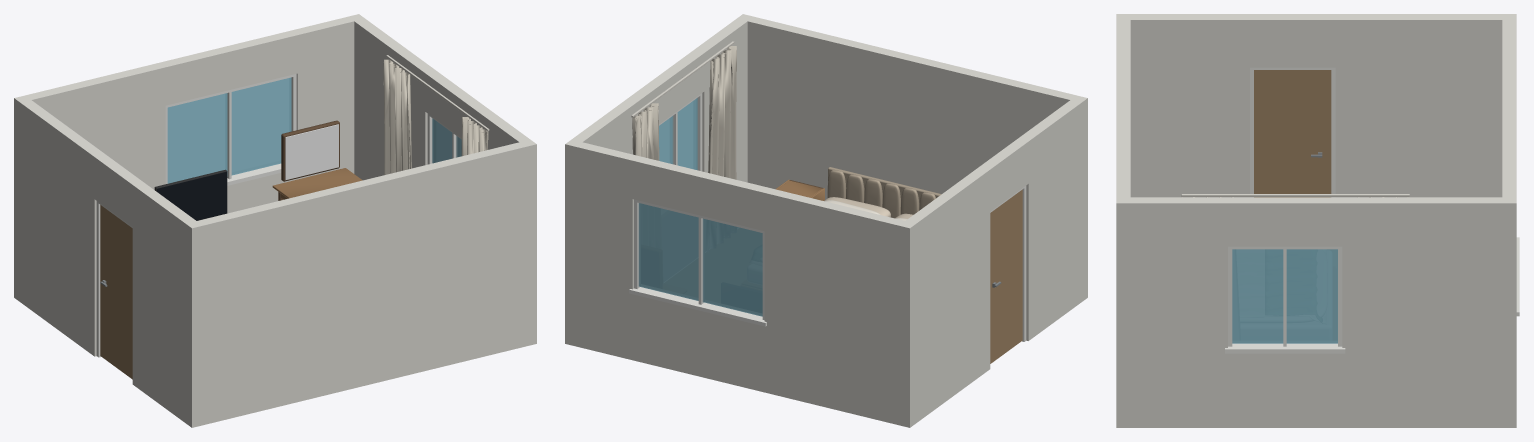
The model's file is oursv11b.glb.
3 views of the same model, side by side, from view 1: azimuth 30°, elevation 25°; view 2: azimuth 150°, elevation 25°; view 3: azimuth 270°, elevation 25° (orthographic). The views are drawn at different scales.
Visible parts, largest first — view 1: wall|scenesmith_000__R00|0, wall|scenesmith_000__R00|2, wall|scenesmith_000__R00|1, wall|scenesmith_000__R00|3, wall|scenesmith_000__R00|1 Window 0 | glazing, wall|scenesmith_000__R00|2 Door 0 | wood leaf, Option V2 softly draped left linen panel, Mirror, Display image, wall|scenesmith_000__R00|1 Window 0 | jamb, Bay divider, wall|scenesmith_000__R00|3 Window 0 | glazing (+3 smaller); view 2: wall|scenesmith_000__R00|1, wall|scenesmith_000__R00|0, wall|scenesmith_000__R00|2, wall|scenesmith_000__R00|3, wall|scenesmith_000__R00|1 Window 0 | glazing, wall|scenesmith_000__R00|2 Door 0 | wood leaf, Option V2 softly draped left linen panel, V2 padded headboard backing, wall|scenesmith_000__R00|1 Window 0 | jamb, wall|scenesmith_000__R00|3 Window 0 | glazing, wall|scenesmith_000__R00|3 Window 0 | jamb, wall|scenesmith_000__R00|2 Door 0 | jamb (+1 smaller); view 3: wall|scenesmith_000__R00|3, wall|scenesmith_000__R00|2, wall|scenesmith_000__R00|3 Window 0 | glazing, wall|scenesmith_000__R00|2 Door 0 | wood leaf, wall|scenesmith_000__R00|3 Window 0 | jamb, wall|scenesmith_000__R00|0, wall|scenesmith_000__R00|1, wall|scenesmith_000__R00|2 Door 0 | jamb, Option V2 continuous curtain track.
Boxes of the visible parts, left/top/right/bottom form: wall|scenesmith_000__R00|0: left=185, top=142, right=526, bottom=427; wall|scenesmith_000__R00|2: left=14, top=95, right=202, bottom=427; wall|scenesmith_000__R00|1: left=25, top=16, right=354, bottom=213; wall|scenesmith_000__R00|3: left=348, top=14, right=536, bottom=346; wall|scenesmith_000__R00|1 Window 0 | glazing: left=167, top=77, right=291, bottom=183; wall|scenesmith_000__R00|2 Door 0 | wood leaf: left=100, top=205, right=132, bottom=379; Option V2 softly draped left linen panel: left=383, top=59, right=488, bottom=174; Mirror: left=285, top=124, right=338, bottom=180; Display image: left=157, top=171, right=226, bottom=220; wall|scenesmith_000__R00|1 Window 0 | jamb: left=165, top=74, right=296, bottom=185; Bay divider: left=272, top=168, right=362, bottom=199; wall|scenesmith_000__R00|3 Window 0 | glazing: left=432, top=118, right=461, bottom=163; wall|scenesmith_000__R00|1: left=576, top=142, right=904, bottom=425; wall|scenesmith_000__R00|0: left=747, top=16, right=1087, bottom=301; wall|scenesmith_000__R00|2: left=899, top=95, right=1087, bottom=427; wall|scenesmith_000__R00|3: left=565, top=14, right=753, bottom=346; wall|scenesmith_000__R00|1 Window 0 | glazing: left=638, top=203, right=762, bottom=316; wall|scenesmith_000__R00|2 Door 0 | wood leaf: left=990, top=189, right=1022, bottom=363; Option V2 softly draped left linen panel: left=632, top=46, right=736, bottom=179; V2 padded headboard backing: left=827, top=167, right=941, bottom=218; wall|scenesmith_000__R00|1 Window 0 | jamb: left=629, top=199, right=766, bottom=326; wall|scenesmith_000__R00|3 Window 0 | glazing: left=659, top=98, right=697, bottom=170; wall|scenesmith_000__R00|3 Window 0 | jamb: left=659, top=93, right=702, bottom=171; wall|scenesmith_000__R00|2 Door 0 | jamb: left=990, top=186, right=1026, bottom=341; wall|scenesmith_000__R00|3: left=1116, top=197, right=1516, bottom=427; wall|scenesmith_000__R00|2: left=1116, top=14, right=1516, bottom=197; wall|scenesmith_000__R00|3 Window 0 | glazing: left=1232, top=249, right=1337, bottom=343; wall|scenesmith_000__R00|2 Door 0 | wood leaf: left=1254, top=70, right=1331, bottom=197; wall|scenesmith_000__R00|3 Window 0 | jamb: left=1225, top=246, right=1345, bottom=353; wall|scenesmith_000__R00|0: left=1116, top=20, right=1130, bottom=197; wall|scenesmith_000__R00|1: left=1502, top=20, right=1516, bottom=197; wall|scenesmith_000__R00|2 Door 0 | jamb: left=1250, top=67, right=1335, bottom=197; Option V2 continuous curtain track: left=1181, top=194, right=1409, bottom=196.
Bounding box in the file's own units: 4.73 × 2.61 × 4.23.
